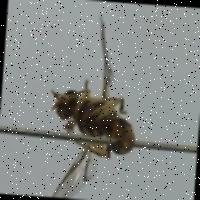Oriental-fruit-fly: (20, 1, 153, 200)
